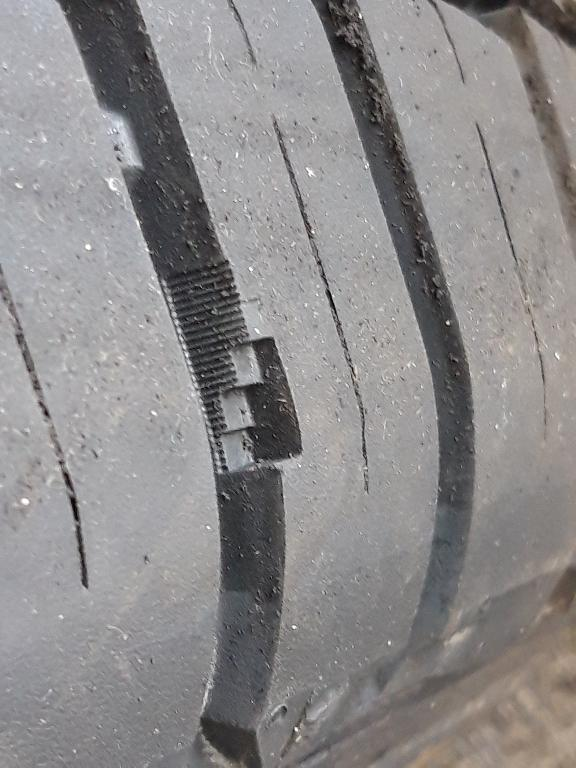temoin:75: (170, 294, 310, 482)
